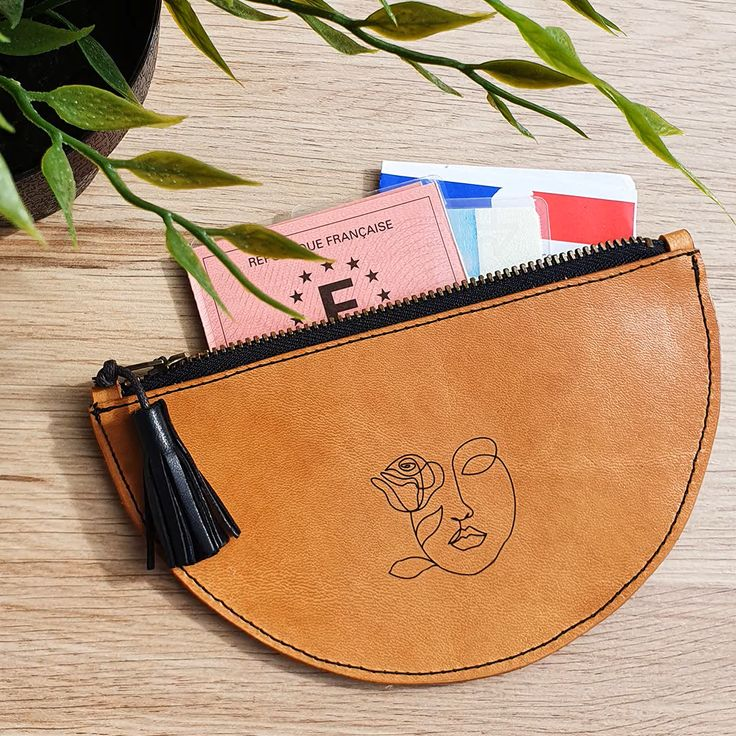cuero: (87, 229, 721, 687)
